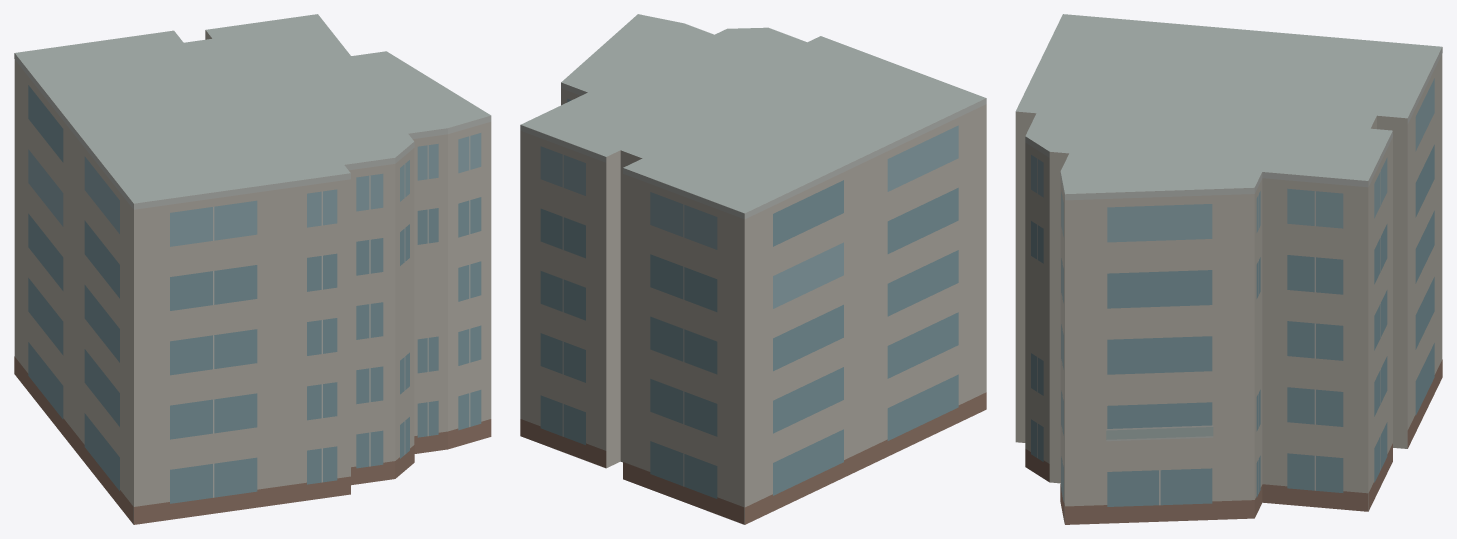
File: survey-upis-32549967.glb
The picture shows the model from 3 angles, left to right: view 1: azimuth 30°, elevation 25°; view 2: azimuth 150°, elevation 25°; view 3: azimuth 270°, elevation 25°; orthographic projection. The views are drawn at different scales.
Visible parts, largest first — view 1: survey-upis-32549967.tmp; view 2: survey-upis-32549967.tmp; view 3: survey-upis-32549967.tmp.
Boxes of the visible parts, <box> form: survey-upis-32549967.tmp: <box>14,14,491,524</box>; survey-upis-32549967.tmp: <box>520,14,986,524</box>; survey-upis-32549967.tmp: <box>1015,14,1442,524</box>.
Size of the model in its own units: 15.02 by 12.85 by 15.04.
